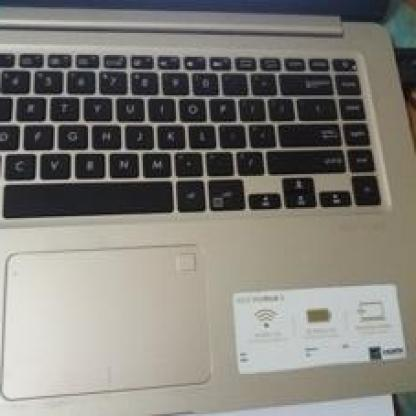keyboard: (0, 32, 391, 248)
